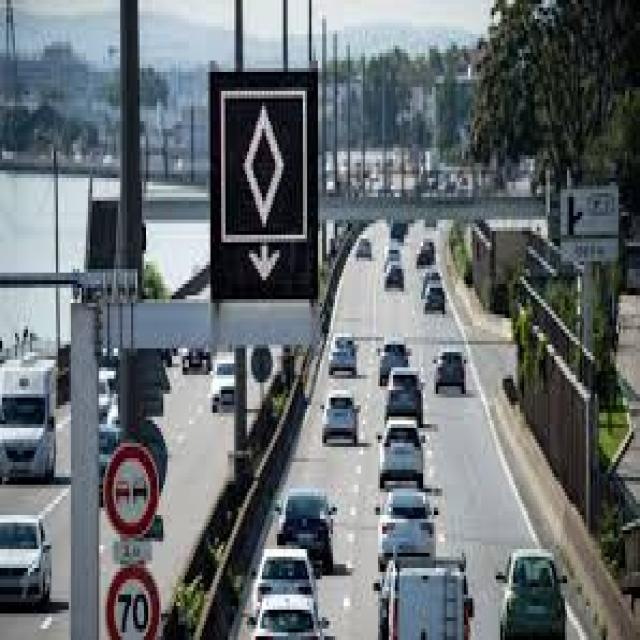forbidden: (101, 437, 160, 539)
speed_70: (103, 560, 159, 640)
